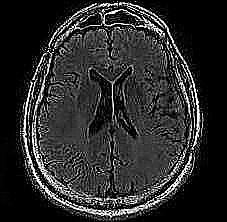Normal_Brain: (2, 3, 227, 222)
